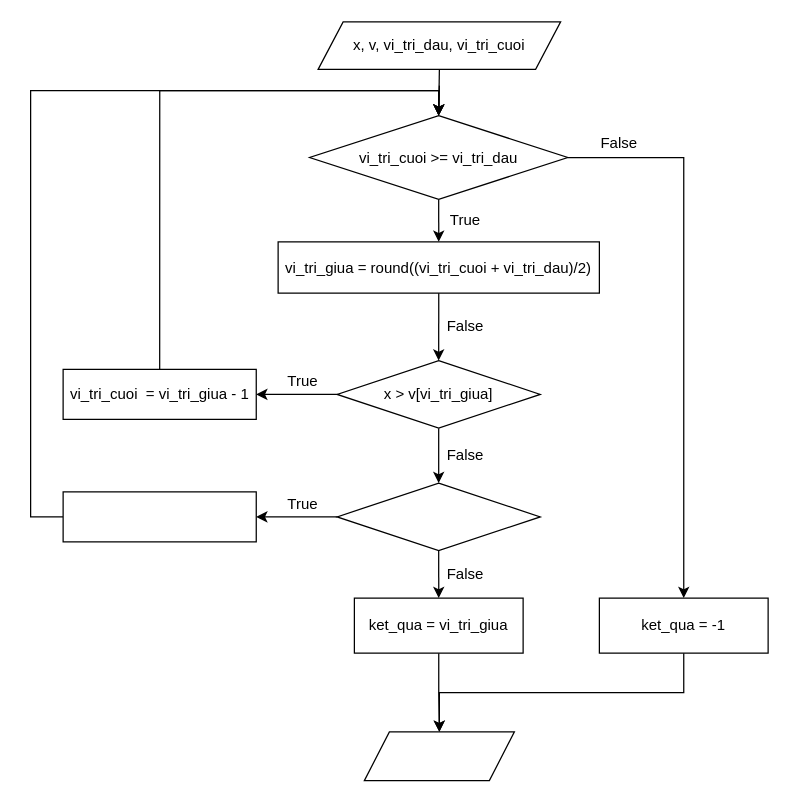
Image size: 790x803. Some labels were removed from this diagram. Each missing label, with the centre of its shape:
"ket_qua" goes at point 438,756.
"vi_tri_dau = vi_tri_giua + 1" goes at point 159,516.
"x < v[vi_tri_giua]" goes at point 438,516.
